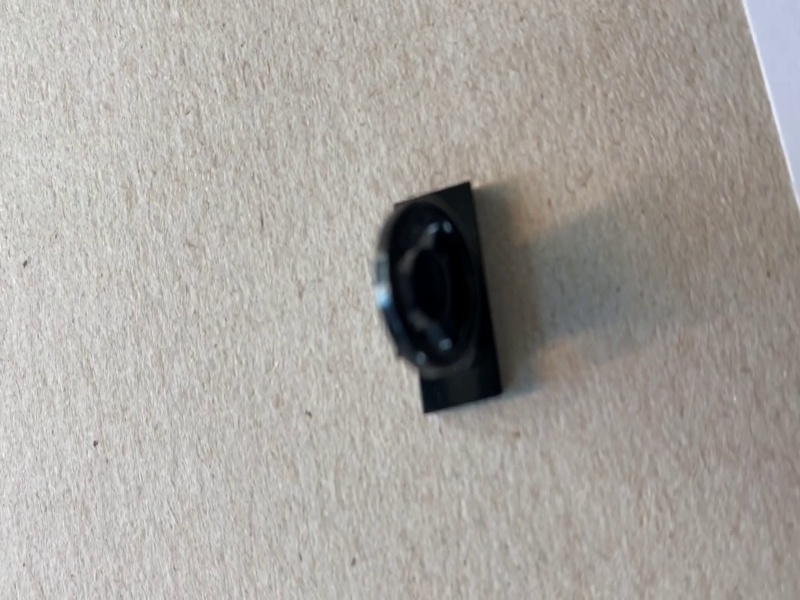steering wheel: (373, 179, 506, 418)
